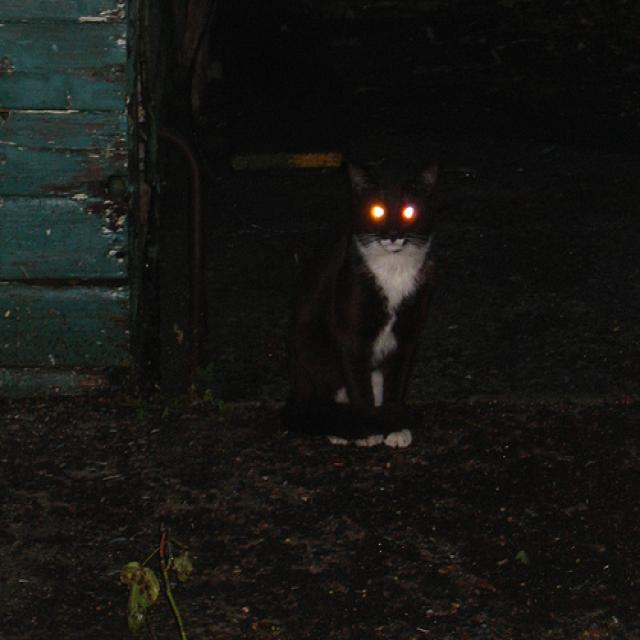Cat: (273, 152, 474, 475)
